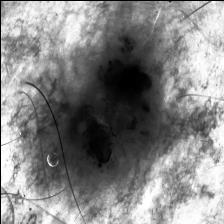Potentially Malignant Skin Tumors: (63, 41, 150, 164)
